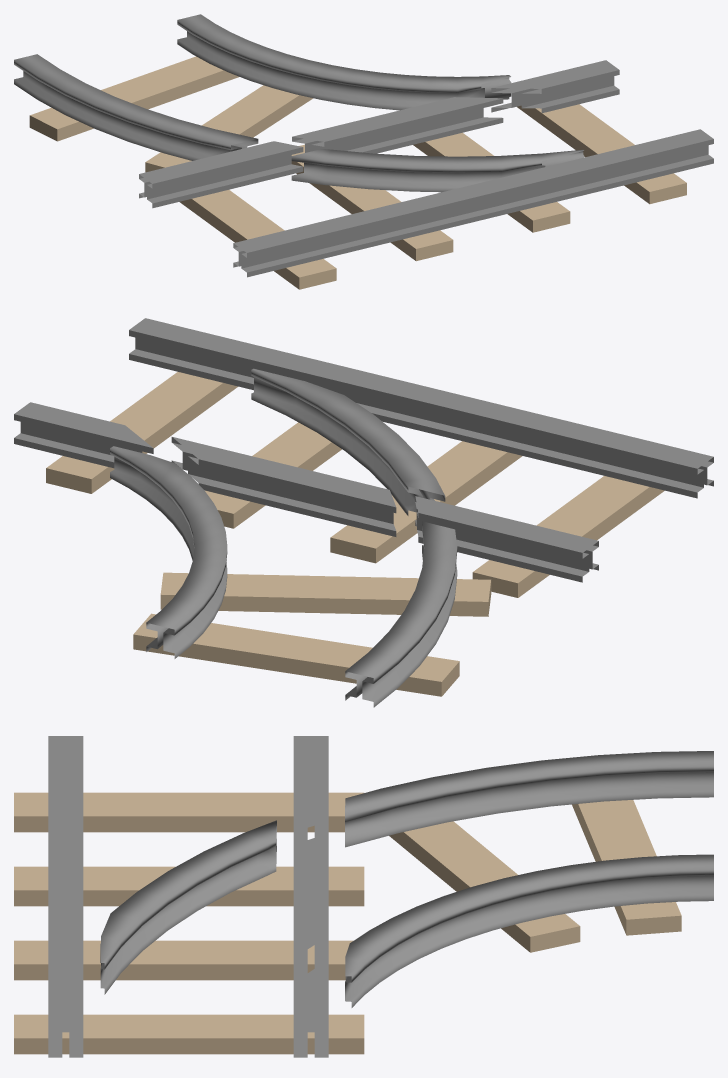
File: mine_track_optional_left.dae
The picture shows the model from 3 angles, top to bottom: view 1: azimuth 30°, elevation 25°; view 2: azimuth 150°, elevation 25°; view 3: azimuth 270°, elevation 25°; orthographic projection. The views are drawn at different scales.
Visible parts, largest first — view 1: TrackSplitR; view 2: TrackSplitR; view 3: TrackSplitR.
Part boxes in pixels (left/top/right/bottom): TrackSplitR: left=14, top=14, right=713, bottom=289; TrackSplitR: left=14, top=318, right=713, bottom=707; TrackSplitR: left=14, top=736, right=713, bottom=1057.
Size of the model in its own units: 2 by 2 by 0.15.
